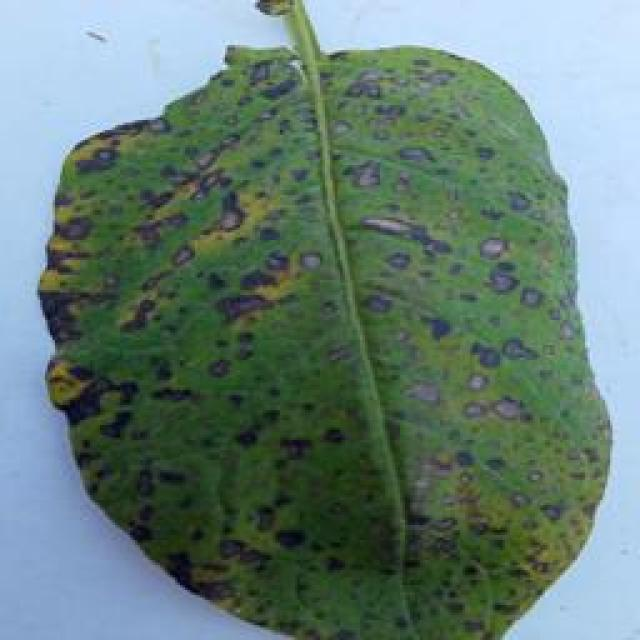Potato_Early_Blight: (40, 35, 640, 640)
